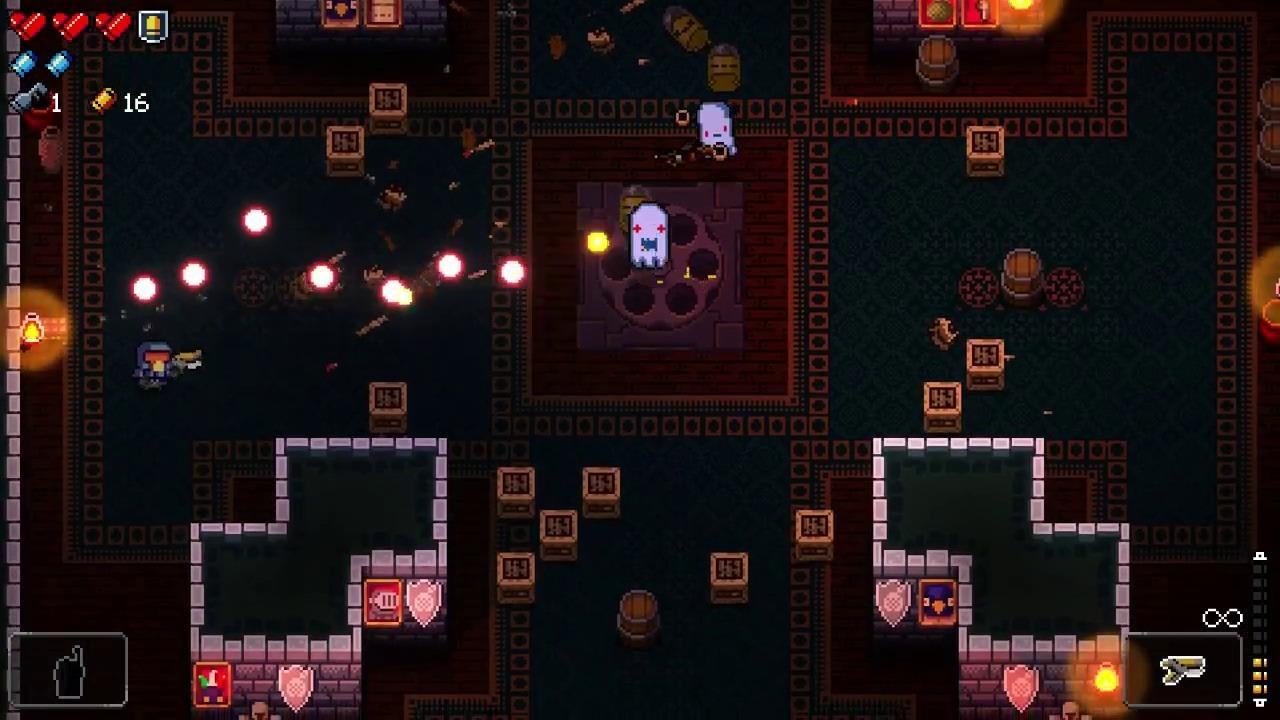bullet: (434, 251, 465, 283), (177, 260, 209, 290), (499, 258, 531, 288), (132, 276, 161, 305), (306, 264, 336, 292), (240, 208, 271, 235), (382, 277, 404, 306)
dead_bullet_kin: (664, 7, 709, 51), (709, 44, 743, 94)
hollowpoint: (632, 205, 671, 271), (696, 103, 739, 158)
player: (136, 341, 175, 391)
teleporter: (576, 180, 746, 351)
